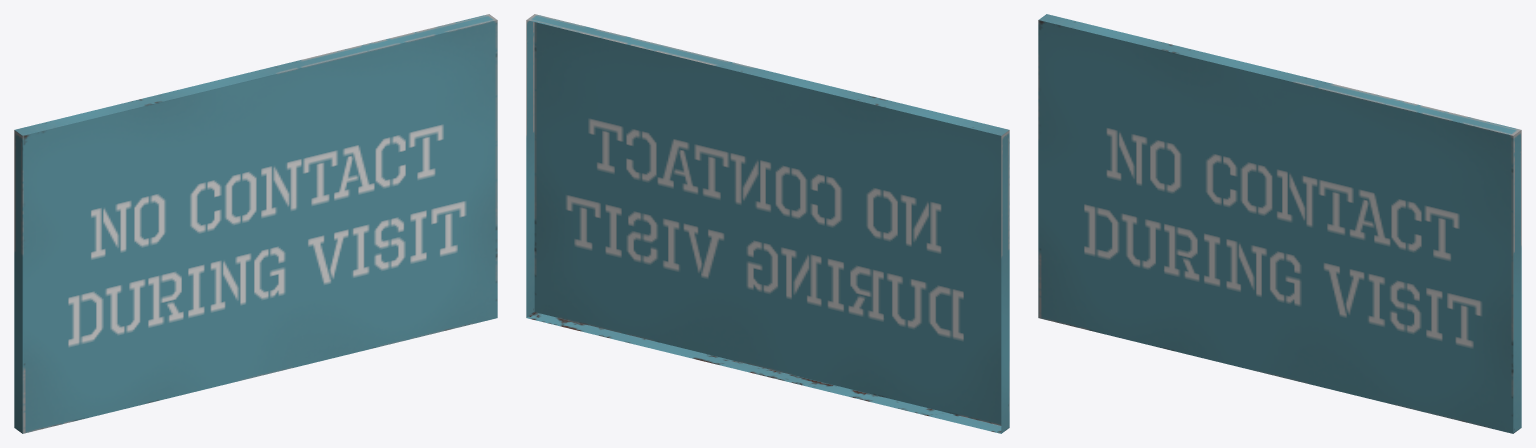
File: SM_Sign_05.fbx
3 renders of one model, left to right at view 1: azimuth 30°, elevation 25°; view 2: azimuth 150°, elevation 25°; view 3: azimuth 330°, elevation 25°, orthographic.
Visible parts, largest first — view 1: SM_Sign_05; view 2: SM_Sign_05; view 3: SM_Sign_05.
Boxes of the visible parts, x1,y1,x2,y2 form: SM_Sign_05: (14, 14, 497, 433); SM_Sign_05: (526, 14, 1009, 433); SM_Sign_05: (1038, 14, 1521, 433).
Bounding box in the file's own units: 50 × 1.5 × 30.
Materials: 1 (1 with a texture image).
